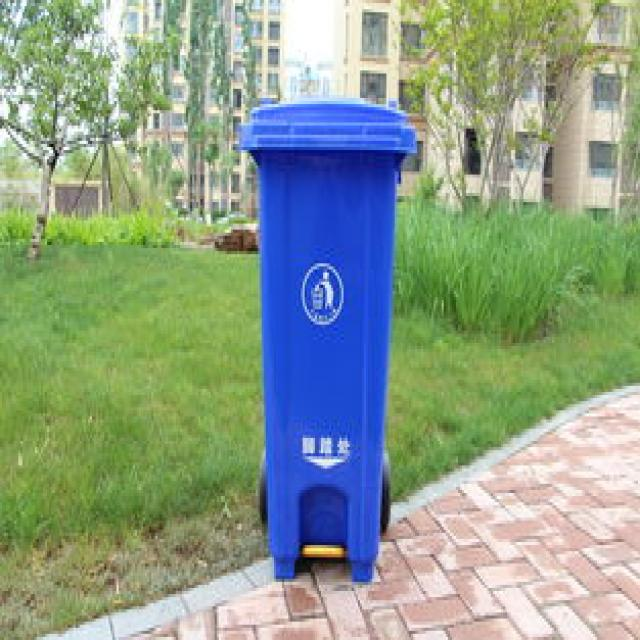garbage_bin: (235, 92, 415, 579)
